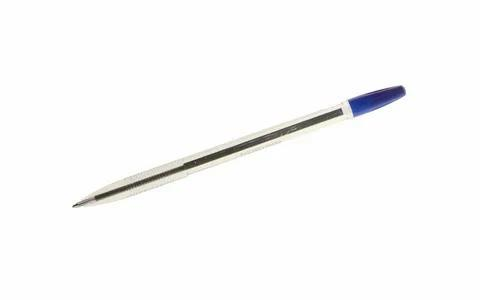pen-pencil: (72, 84, 405, 207)
